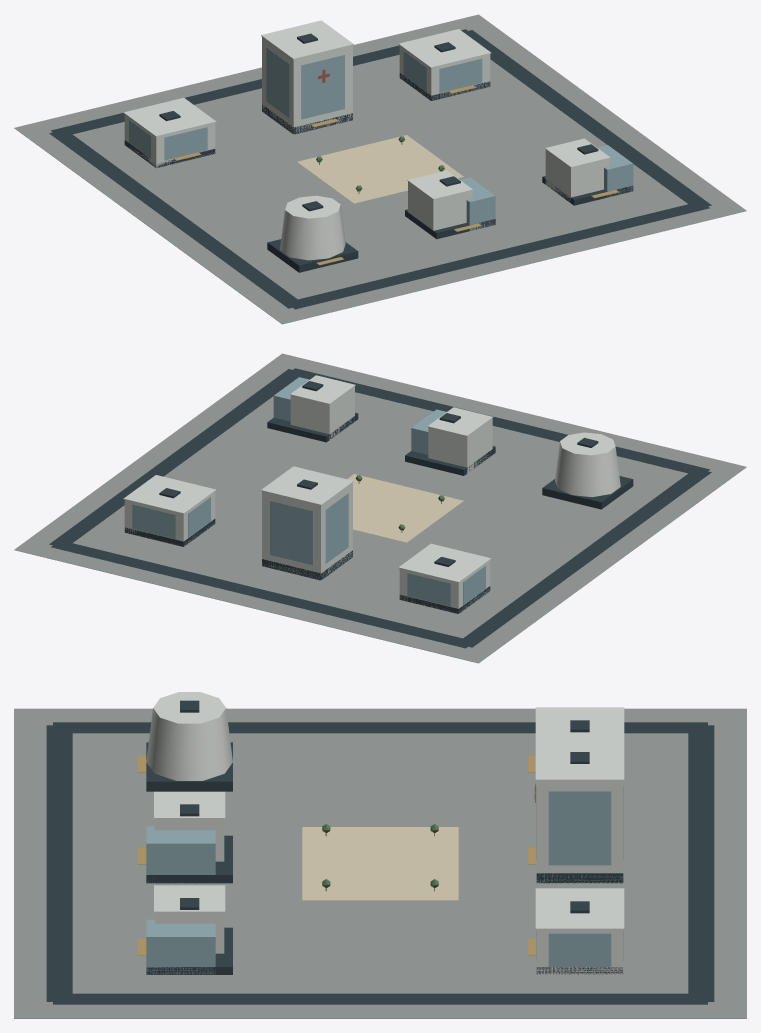
The model's file is GC-TILE-08-17.glb.
3 views of the same model, one above another, from view 1: azimuth 30°, elevation 25°; view 2: azimuth 150°, elevation 25°; view 3: azimuth 270°, elevation 25° (orthographic). The views are drawn at different scales.
Parts seen in each view (by area): view 1: GC-TILE-08-17-paving, GC-TILE-08-17-white, GC-TILE-08-17-dark, GC-TILE-08-17-glass, GC-TILE-08-17-ivory, GC-TILE-08-17-gold; view 2: GC-TILE-08-17-paving, GC-TILE-08-17-white, GC-TILE-08-17-dark, GC-TILE-08-17-glass, GC-TILE-08-17-ivory; view 3: GC-TILE-08-17-paving, GC-TILE-08-17-dark, GC-TILE-08-17-white, GC-TILE-08-17-glass, GC-TILE-08-17-ivory, GC-TILE-08-17-gold.
Boxes of the visible parts, bbox=[...] form: GC-TILE-08-17-paving: bbox=[14, 14, 746, 324]; GC-TILE-08-17-white: bbox=[123, 20, 610, 260]; GC-TILE-08-17-dark: bbox=[49, 29, 711, 309]; GC-TILE-08-17-glass: bbox=[129, 47, 633, 230]; GC-TILE-08-17-ivory: bbox=[297, 135, 463, 203]; GC-TILE-08-17-gold: bbox=[173, 85, 618, 265]; GC-TILE-08-17-paving: bbox=[14, 353, 746, 663]; GC-TILE-08-17-white: bbox=[123, 375, 620, 613]; GC-TILE-08-17-dark: bbox=[49, 368, 711, 648]; GC-TILE-08-17-glass: bbox=[132, 377, 485, 606]; GC-TILE-08-17-ivory: bbox=[347, 474, 463, 542]; GC-TILE-08-17-paving: bbox=[14, 708, 746, 1018]; GC-TILE-08-17-dark: bbox=[46, 700, 714, 1004]; GC-TILE-08-17-white: bbox=[146, 692, 624, 974]; GC-TILE-08-17-glass: bbox=[146, 781, 623, 974]; GC-TILE-08-17-ivory: bbox=[302, 827, 458, 900]; GC-TILE-08-17-gold: bbox=[137, 755, 536, 955].
Size of the model in its own units: 338 by 54.48 by 338.
